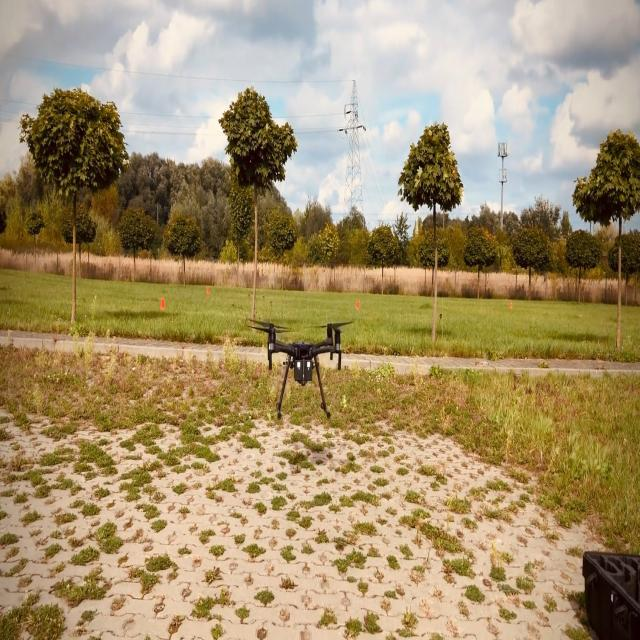drone: (245, 317, 354, 420)
